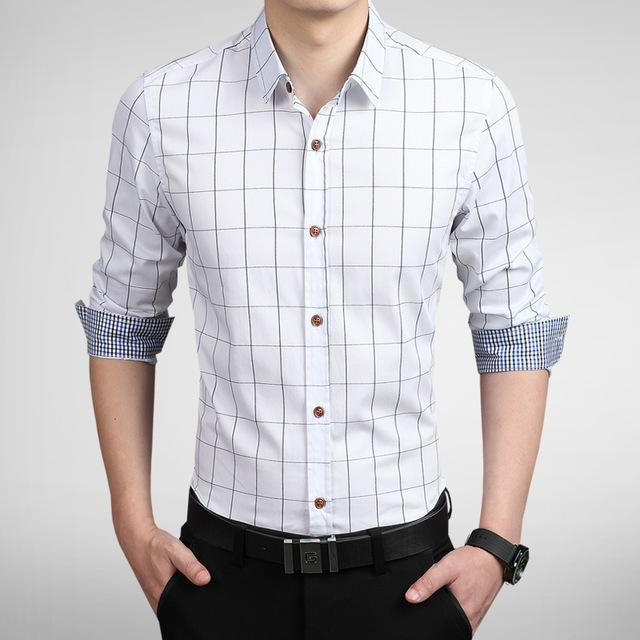Shirt: (73, 5, 598, 546)
